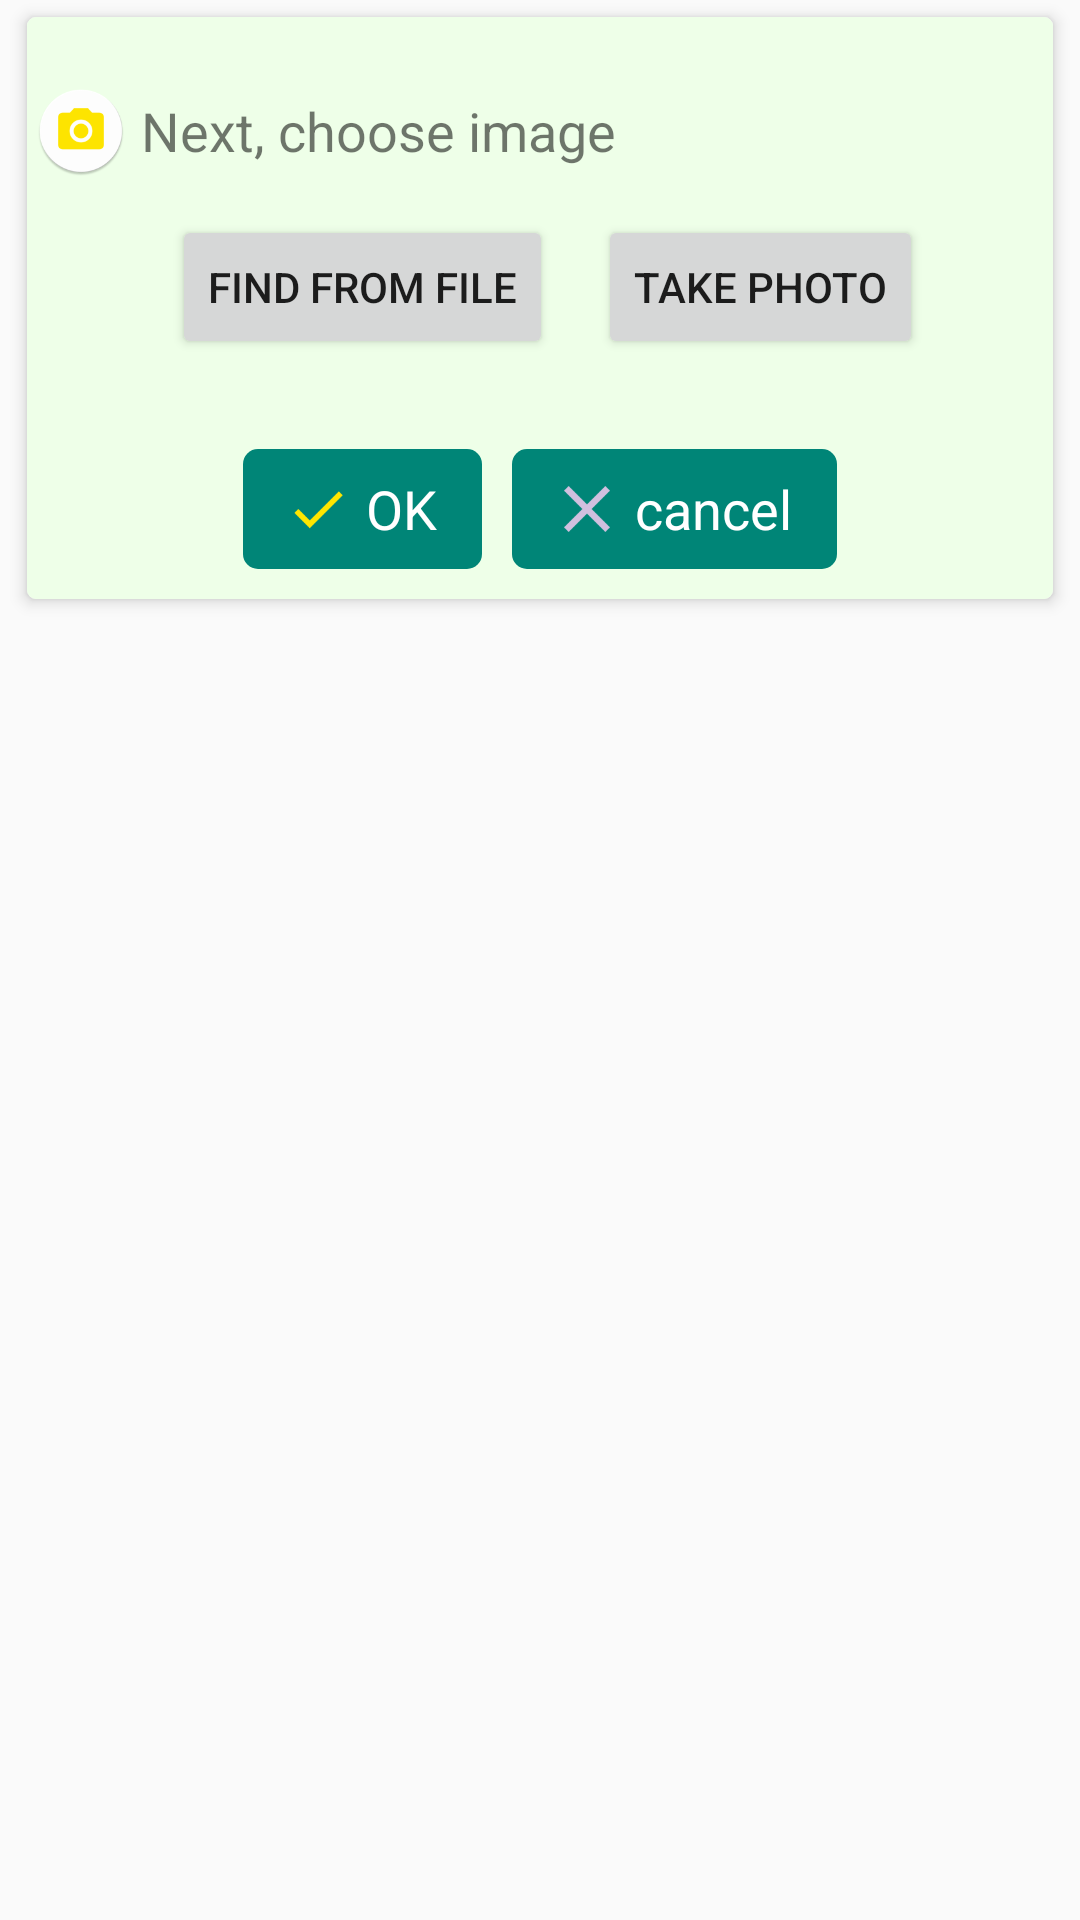

Icons on this 1080×1920 Android screen, each with its box as (x1, y1, x2, y2):
check ok: (294, 491, 343, 529)
photo: (39, 90, 123, 175)
